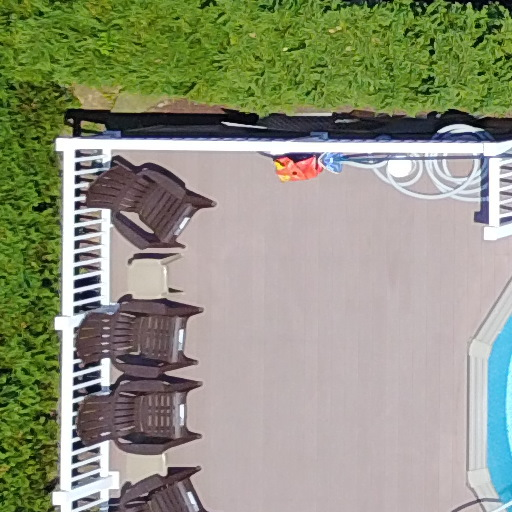porch: (35, 82, 508, 512)
toy: (277, 152, 352, 186)
